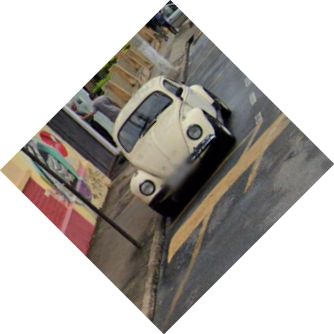car: (108, 72, 241, 222)
